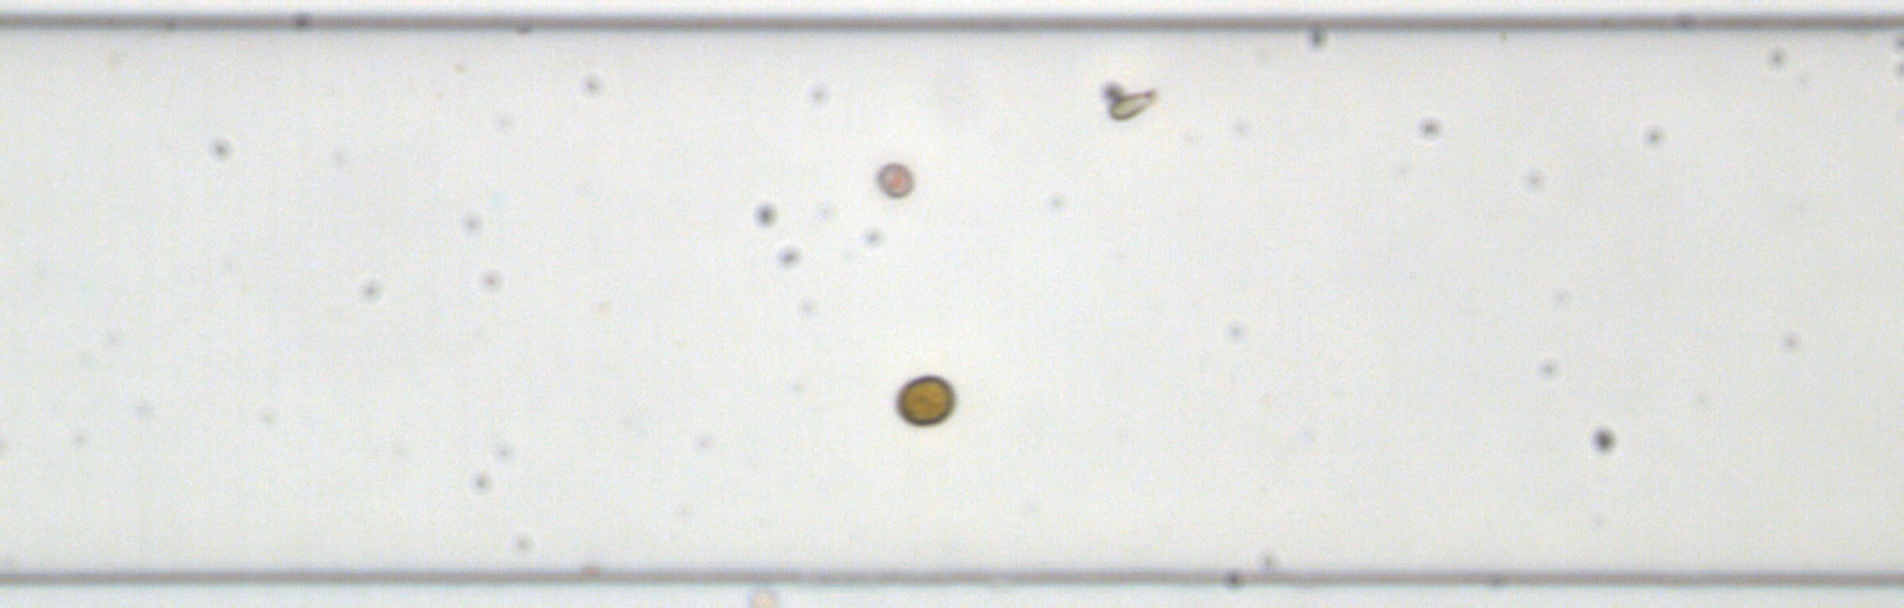Dunaliella salina: (1101, 86, 1162, 123)
Effrenium: (889, 370, 960, 430)
Porphyridium: (873, 158, 916, 201)
